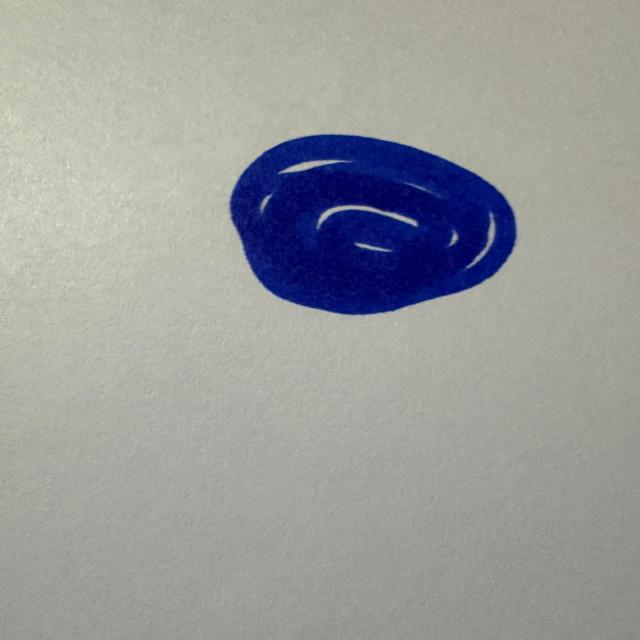Circle: (225, 125, 523, 322)
